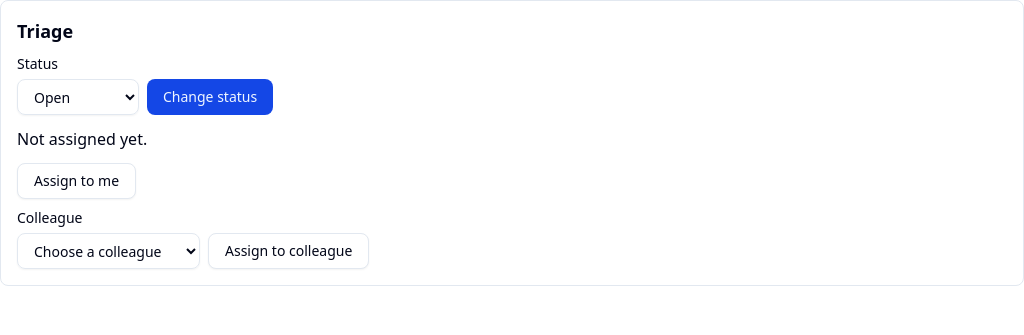
Scenario: an assignment that fails says so
The width and height of the screenshot is (1024, 335).
Click the button "Assign to me" at coordinates (76, 181), box [17,163,136,199]
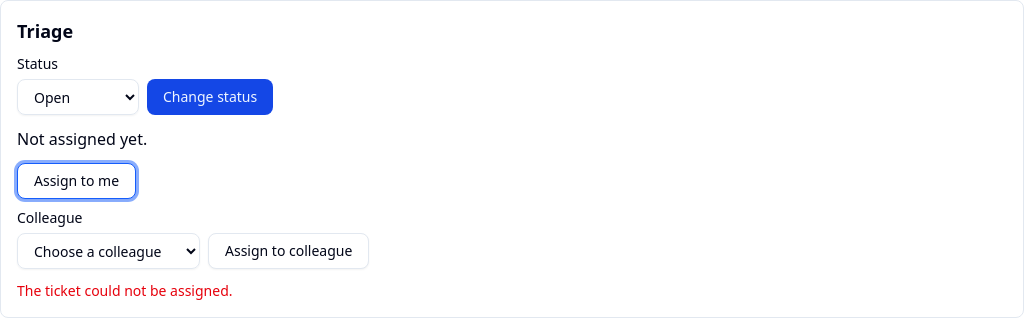
Check: the message reads "The ticket could not be assigned.", box [17,281,232,300]
